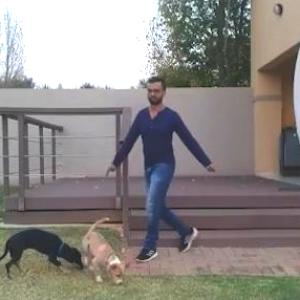land: (111, 82, 225, 267)
